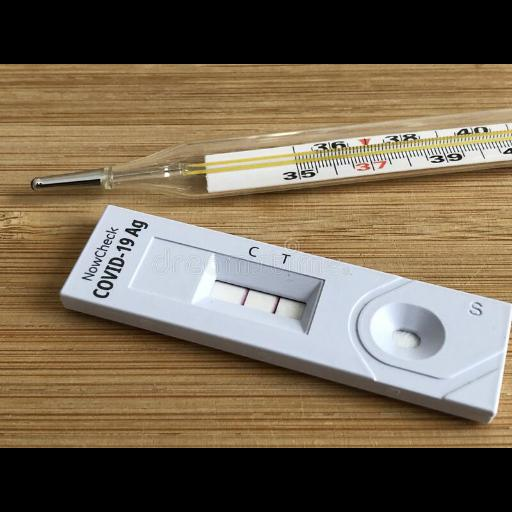Pos: (61, 203, 512, 413)
